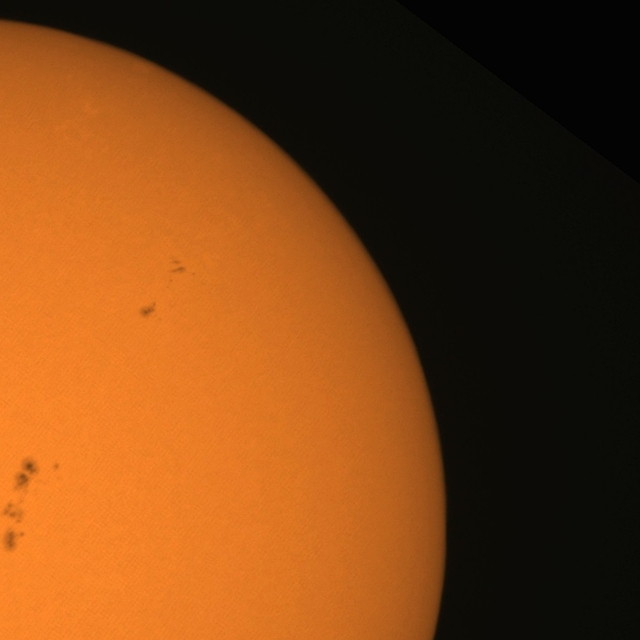sunspot: (13, 458, 63, 491), (1, 485, 28, 534), (1, 507, 25, 553), (11, 458, 38, 497), (138, 301, 162, 321)
